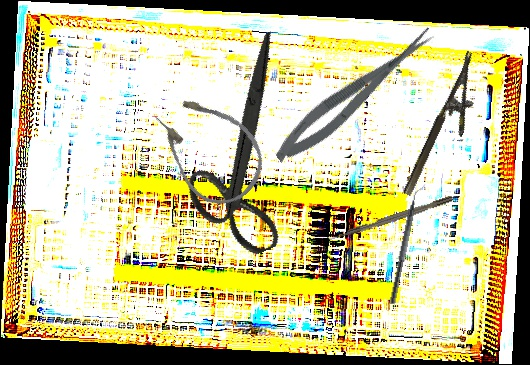Cannula: (139, 76, 279, 220)
Chopper: (389, 181, 427, 307)
Hook Surgical: (327, 195, 454, 243)
Iris Scissors: (142, 31, 350, 270)
Micro Scissor: (266, 21, 445, 171)
Needle Holder: (401, 50, 496, 206)
